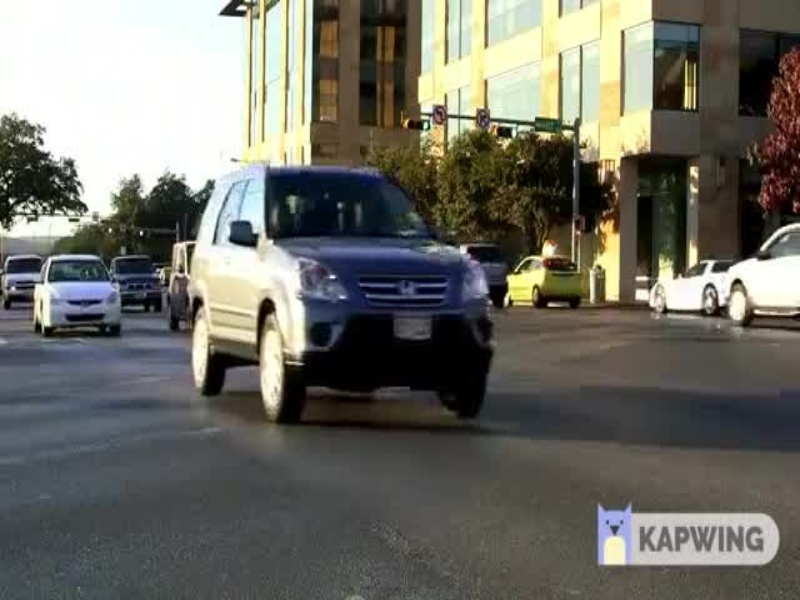car: (179, 165, 502, 427), (28, 251, 134, 349), (632, 250, 753, 312), (510, 253, 596, 309)
